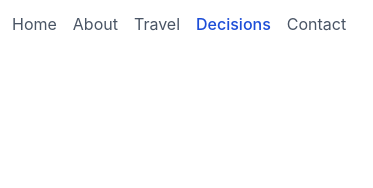
Test: NavLinks › is closed by default and opens the flyout when clicked
The image size is (373, 188).
Click the button "Decisions" at (233, 24), box [196,12,271,36]
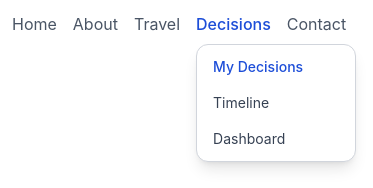
Expected: the menu is shown, [196,44,356,162]
